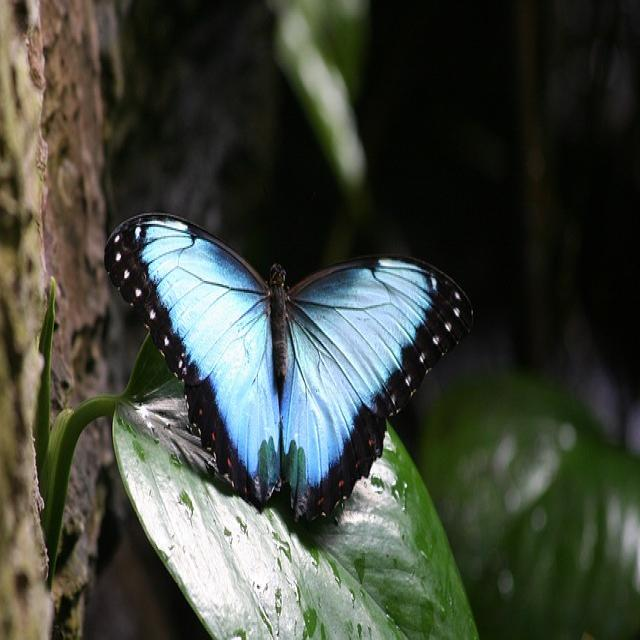butterfly: (104, 215, 476, 526)
